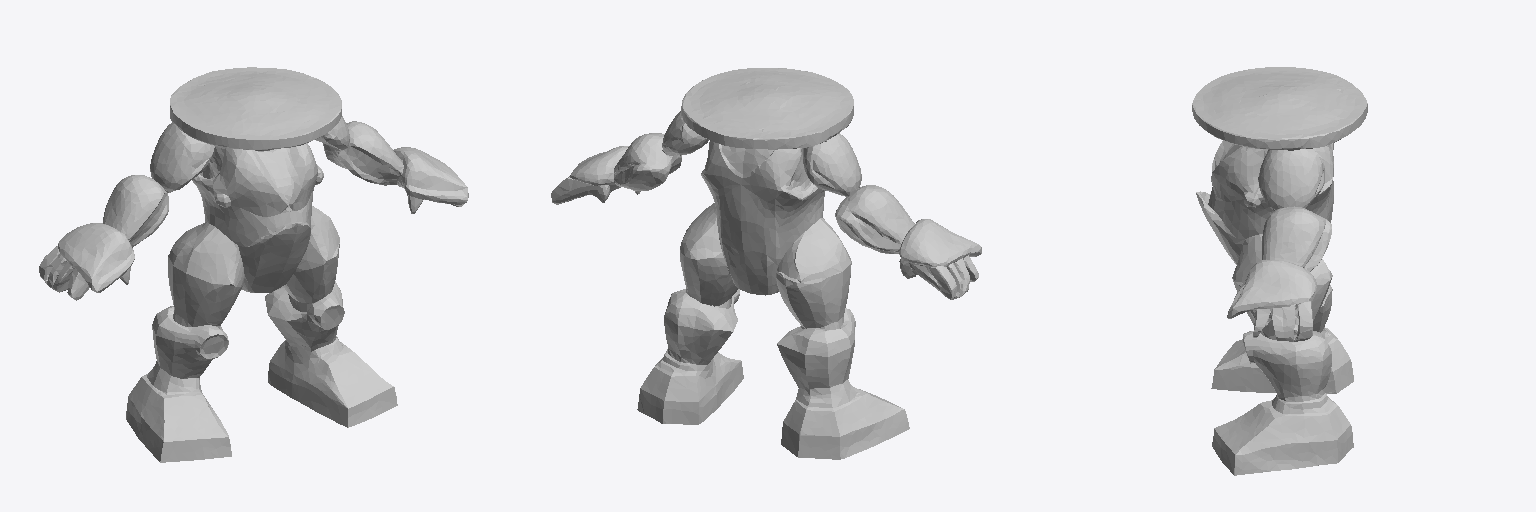
The model's file is character_body.obj.
The picture shows the model from 3 angles: view 1: azimuth 30°, elevation 25°; view 2: azimuth 150°, elevation 25°; view 3: azimuth 270°, elevation 25°; orthographic projection.
Parts seen in each view (by area): view 1: obj1; view 2: obj1; view 3: obj1.
Boxes of the visible parts, <box> form: obj1: <box>39,67,468,462</box>; obj1: <box>551,68,981,459</box>; obj1: <box>1192,67,1367,475</box>.
Bounding box in the file's own units: 1 × 0.7698 × 0.3782.